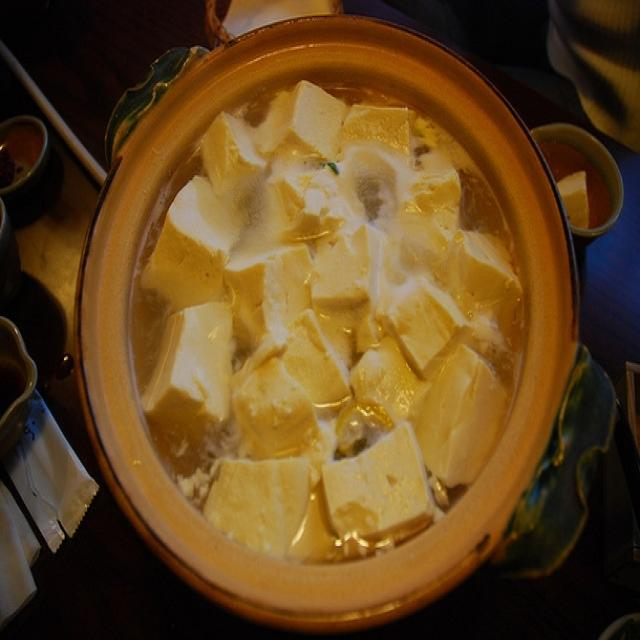豆腐料理: (67, 39, 576, 610)
